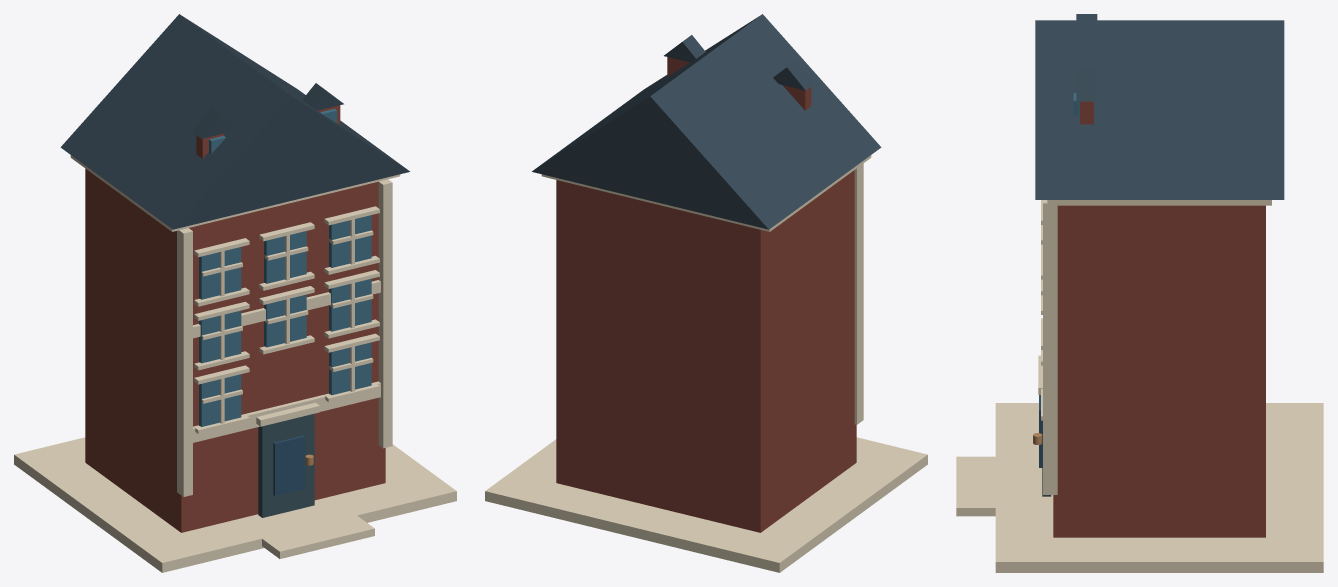
3 views of the same model, side by side, from view 1: azimuth 30°, elevation 25°; view 2: azimuth 150°, elevation 25°; view 3: azimuth 270°, elevation 25° (orthographic). The views are drawn at different scales.
Parts seen in each view (by area): view 1: Main canal house masonry, Steep gable roof, Basement terrace, Vertical corner quoin -21, Entrance stair step, Vertical corner quoin 21, Historic canal house entrance, Entrance glazing, Facade plinth belt, Window r1x-13.7, Window r3x-13.7, Window r2x-13.7 (+10 smaller); view 2: Main canal house masonry, Steep gable roof, Basement terrace, Vertical corner quoin -21, Roof cornice, Dormer gable -11, Dormer gable 11; view 3: Main canal house masonry, Steep gable roof, Basement terrace, Vertical corner quoin 21, Entrance stair step, Roof cornice, Dormer gable 11.
Boxes of the visible parts, left/top/right/bottom form: Main canal house masonry: left=85, top=168, right=385, bottom=532; Steep gable roof: left=60, top=14, right=409, bottom=229; Basement terrace: left=14, top=437, right=456, bottom=572; Vertical corner quoin -21: left=177, top=228, right=192, bottom=496; Entrance stair step: left=244, top=503, right=374, bottom=558; Vertical corner quoin 21: left=378, top=179, right=392, bottom=448; Historic canal house entrance: left=258, top=413, right=314, bottom=517; Entrance glazing: left=273, top=435, right=305, bottom=495; Facade plinth belt: left=193, top=381, right=380, bottom=442; Window r1x-13.7: left=199, top=374, right=241, bottom=426; Window r3x-13.7: left=199, top=247, right=241, bottom=299; Window r2x-13.7: left=199, top=310, right=241, bottom=363; Main canal house masonry: left=556, top=170, right=856, bottom=532; Steep gable roof: left=532, top=14, right=881, bottom=229; Basement terrace: left=485, top=437, right=927, bottom=572; Vertical corner quoin -21: left=854, top=163, right=863, bottom=424; Roof cornice: left=541, top=155, right=871, bottom=231; Dormer gable -11: left=773, top=60, right=815, bottom=90; Dormer gable 11: left=664, top=35, right=705, bottom=62; Main canal house masonry: left=1053, top=205, right=1265, bottom=537; Steep gable roof: left=1035, top=20, right=1284, bottom=199; Basement terrace: left=995, top=403, right=1323, bottom=572; Vertical corner quoin 21: left=1043, top=200, right=1057, bottom=494; Entrance stair step: left=956, top=456, right=1035, bottom=516; Roof cornice: left=1047, top=200, right=1271, bottom=205; Dormer gable 11: left=1076, top=70, right=1097, bottom=101.
Size of the model in its own units: 0.062 by 0.086 by 0.0605.
